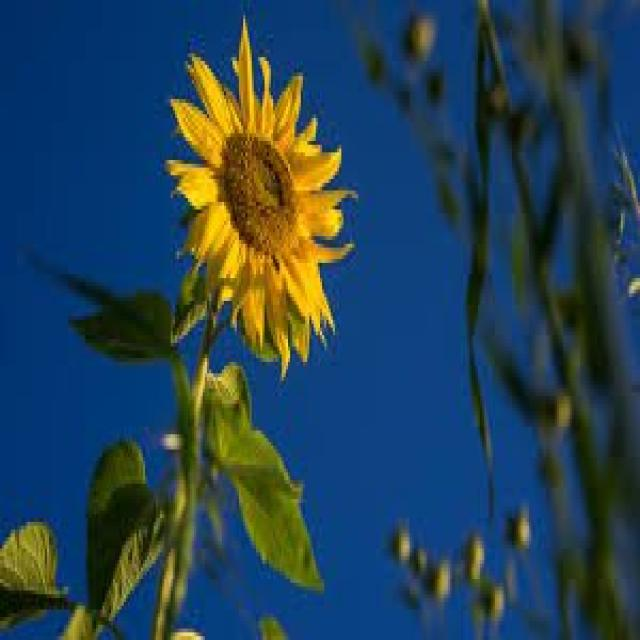sunflower: (165, 12, 356, 377)
